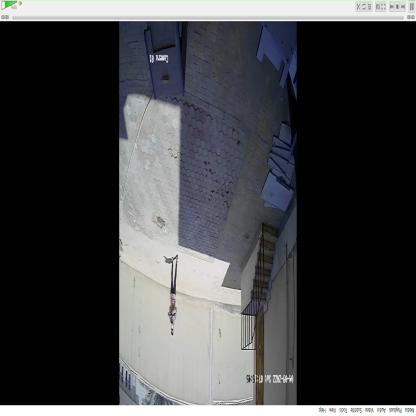handgun: (163, 302, 178, 320)
